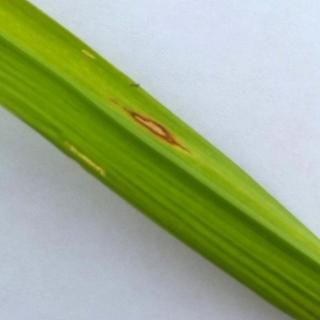Blast: (108, 87, 200, 162)
